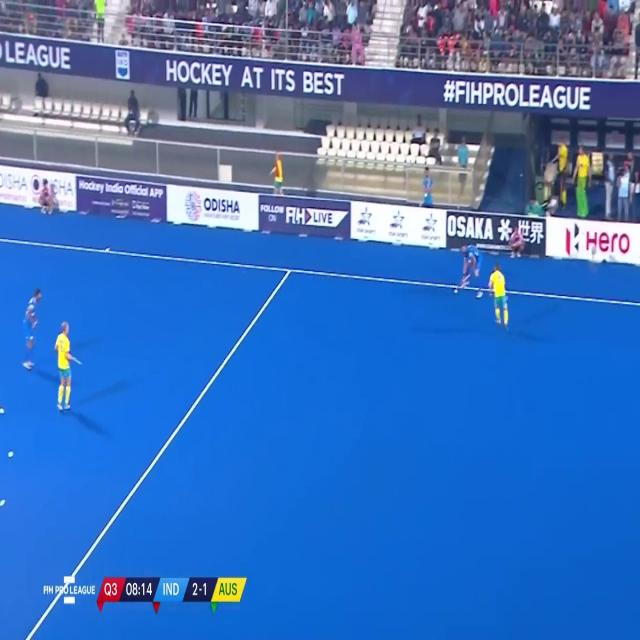ball: (451, 283, 462, 300)
